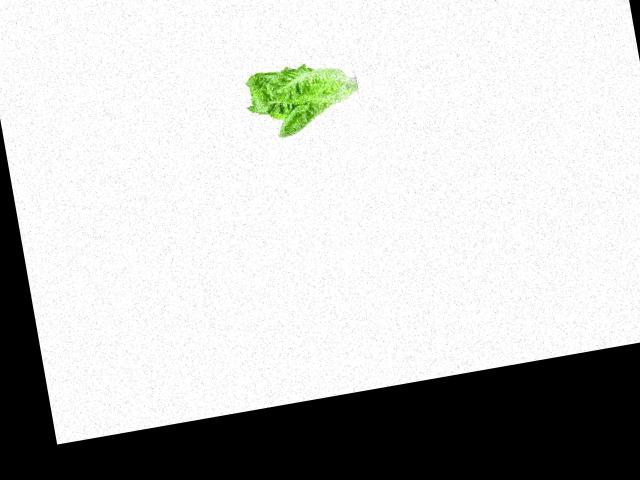lettuce: (239, 52, 359, 143)
